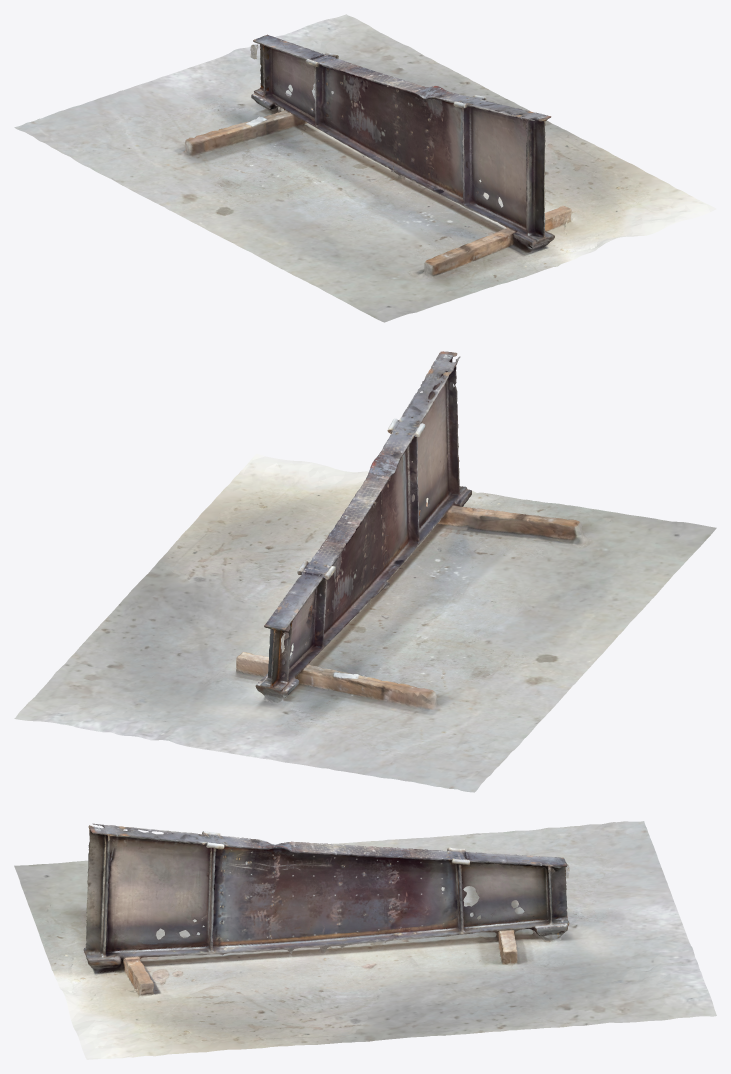
The picture shows the model from 3 angles, top to bottom: view 1: azimuth 30°, elevation 25°; view 2: azimuth 150°, elevation 25°; view 3: azimuth 270°, elevation 25°; orthographic projection. The views are drawn at different scales.
Size of the model in its own units: 2.33 by 0.6683 by 2.93.
Materials: 1 (1 with a texture image).
